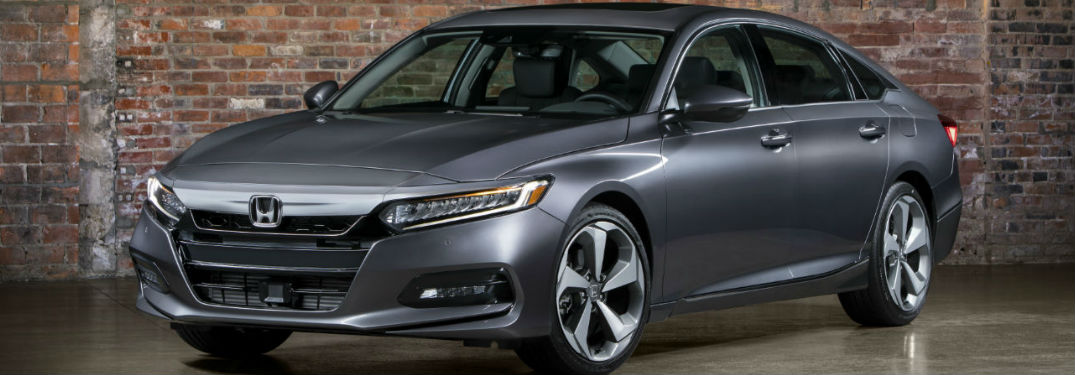accord: (122, 3, 969, 375)
